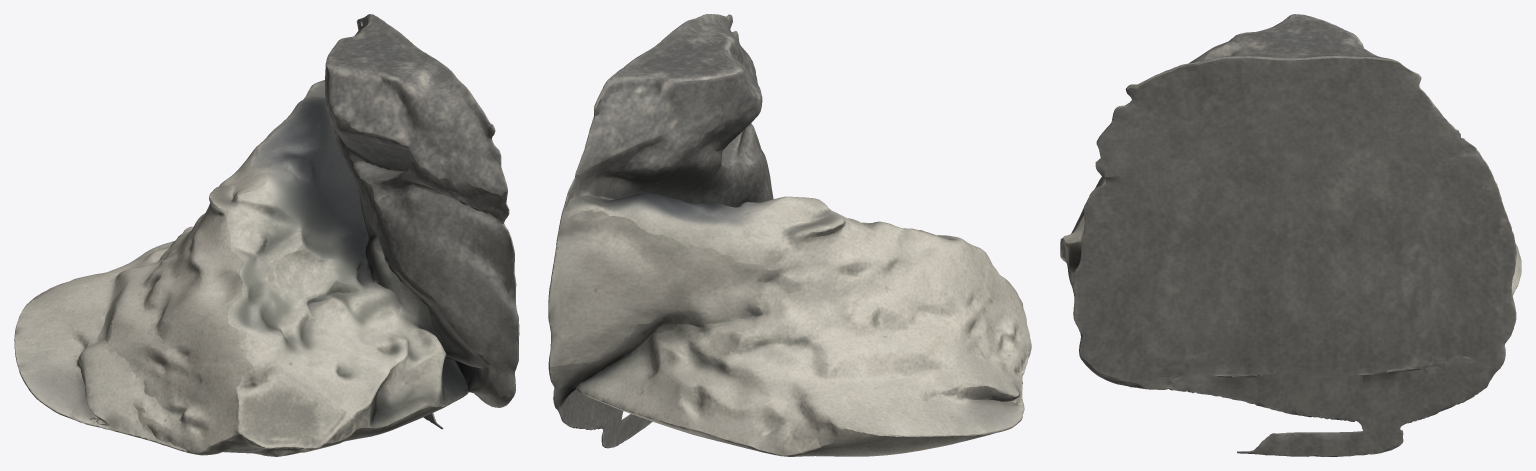
The picture shows the model from 3 angles, left to right: view 1: azimuth 30°, elevation 25°; view 2: azimuth 150°, elevation 25°; view 3: azimuth 270°, elevation 25°; orthographic projection. The views are drawn at different scales.
Visible parts, largest first — view 1: world; view 2: world; view 3: world.
Boxes of the visible parts, x1=… form: world: x1=14, y1=14, x2=519, y2=456; world: x1=548, y1=14, x2=1031, y2=456; world: x1=1060, y1=14, x2=1521, y2=456.
Bounding box in the file's own units: 0.45 × 0.4314 × 0.4509.
Materials: 1 (1 with a texture image).
